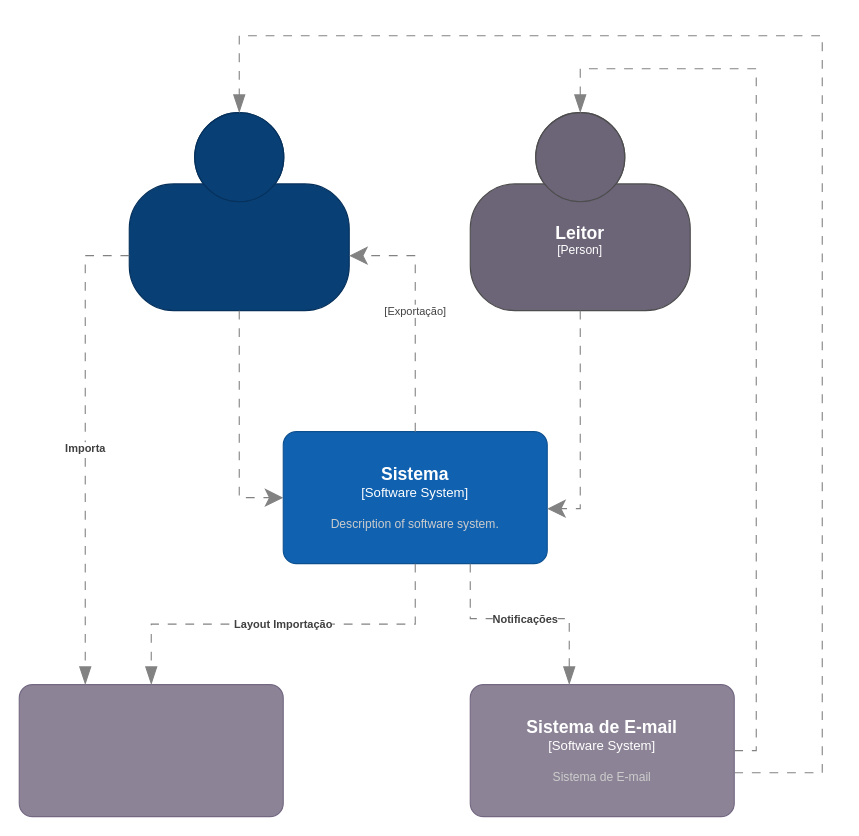
Image size: 859x836. Some labels were removed from this diagram. Here are the shapes that lost their labels. From the top down, the box of each, then its label:
(128, 112, 349, 311): Gestor [Person]
(18, 684, 283, 817): Sistema importador [Software System] Outro sistema que importa os dados.
